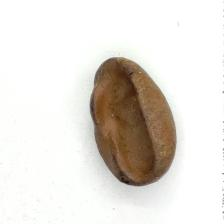NG: (92, 58, 159, 183)
